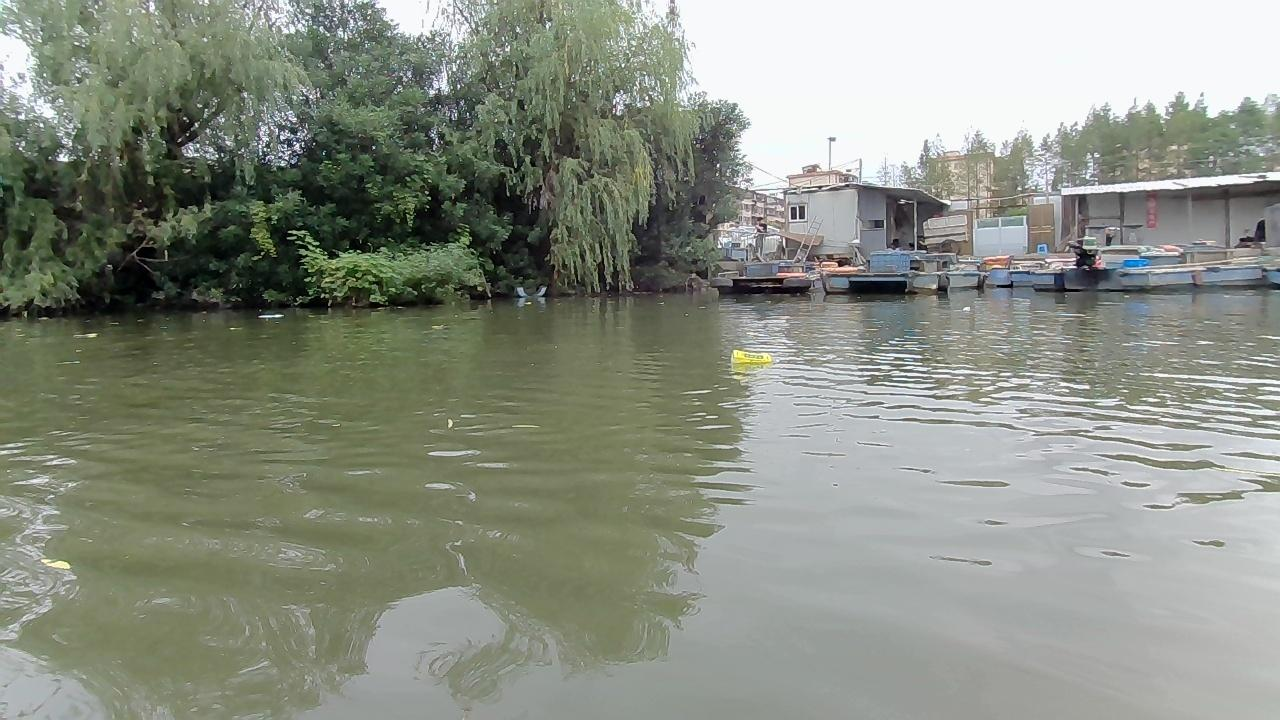bottle: (726, 347, 784, 367)
